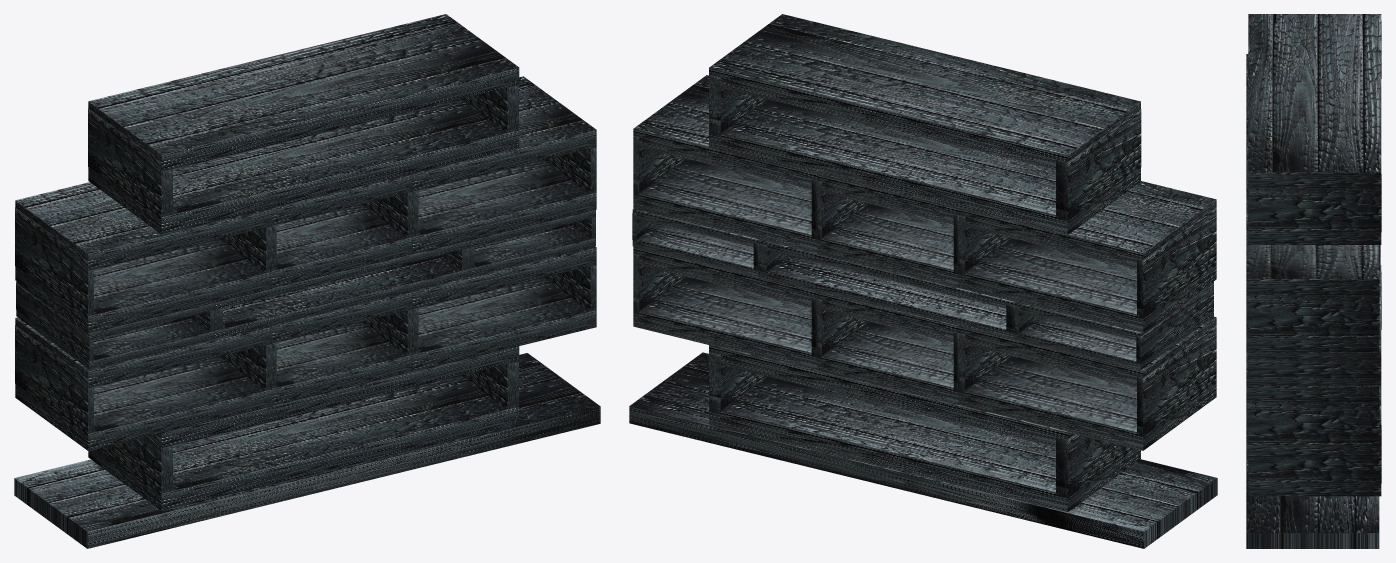
File: chimenea.obj
The picture shows the model from 3 angles, left to right: view 1: azimuth 30°, elevation 25°; view 2: azimuth 150°, elevation 25°; view 3: azimuth 270°, elevation 25°; orthographic projection. The views are drawn at different scales.
Visible parts, largest first — view 1: pCube17; view 2: pCube17; view 3: pCube17.
Boxes of the visible parts, bbox=[...] form: pCube17: bbox=[14, 14, 600, 548]; pCube17: bbox=[629, 14, 1217, 548]; pCube17: bbox=[1246, 14, 1381, 548].
Bounding box in the file's own units: 2.02 × 1.41 × 0.5083.
